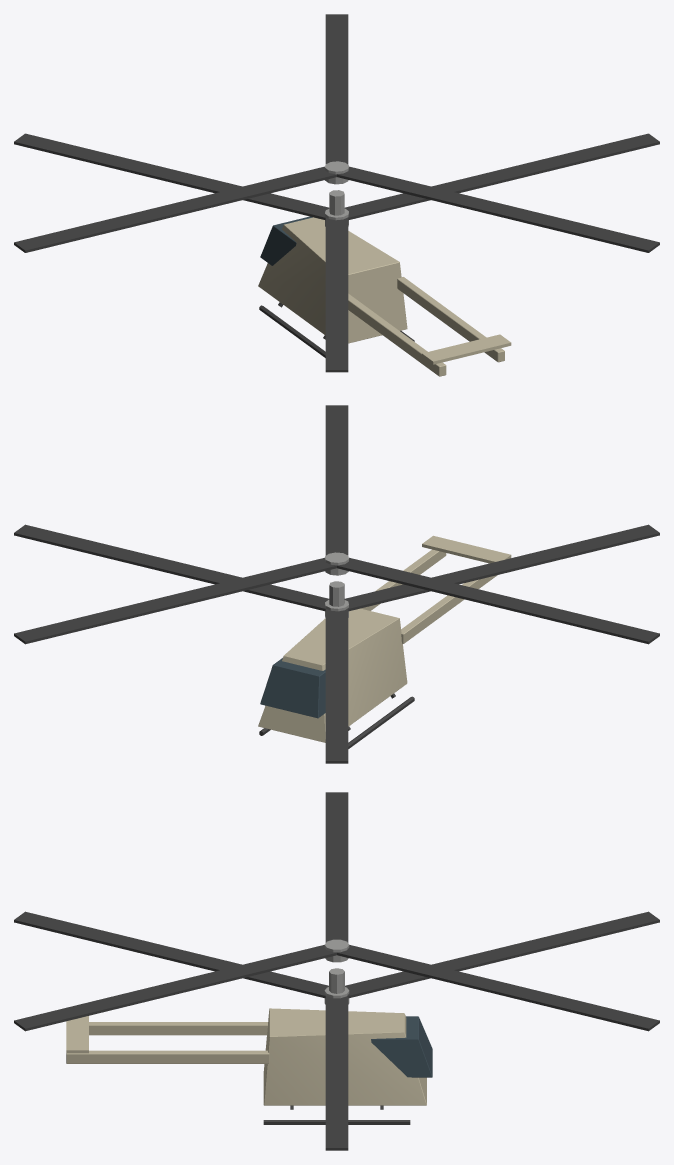
Rendered from rus_heli_ka226.glb.
3 views of the same model, one above another, from view 1: azimuth 30°, elevation 25°; view 2: azimuth 150°, elevation 25°; view 3: azimuth 270°, elevation 25° (orthographic).
Visible parts, largest first — view 1: body, trotor, rotor; view 2: body, trotor, rotor; view 3: body, trotor, rotor.
Part boxes in pixels (<box>): body: <box>258,190,511,376</box>; trotor: <box>14,14,659,252</box>; rotor: <box>14,133,659,372</box>; body: <box>258,535,511,748</box>; trotor: <box>14,405,659,644</box>; rotor: <box>14,524,659,763</box>; body: <box>66,968,432,1124</box>; trotor: <box>14,792,659,1031</box>; rotor: <box>14,911,659,1150</box>.
Size of the model in its own units: 13 by 3.15 by 11.46.
